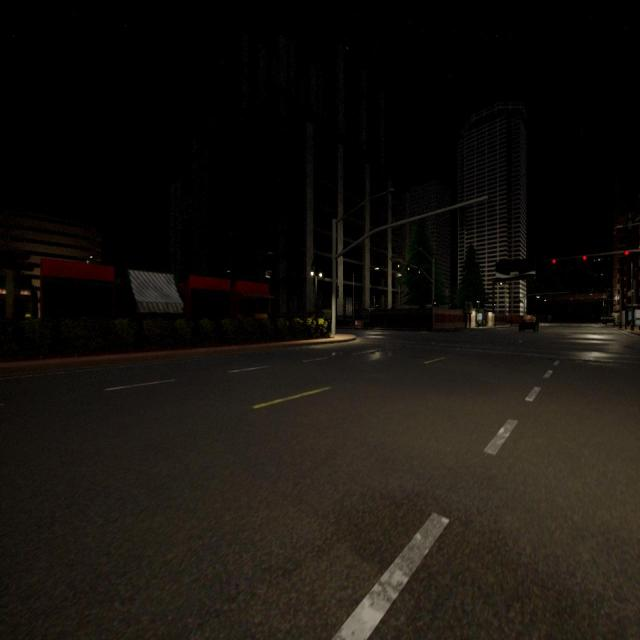Vehicle: (518, 315, 540, 333)
traffic_light: (336, 285, 340, 299), (397, 261, 400, 271), (433, 298, 436, 308), (582, 255, 587, 261), (624, 250, 629, 256), (407, 264, 410, 272), (552, 259, 556, 264), (418, 268, 420, 274), (595, 296, 597, 300), (581, 297, 583, 300), (570, 298, 572, 300)
